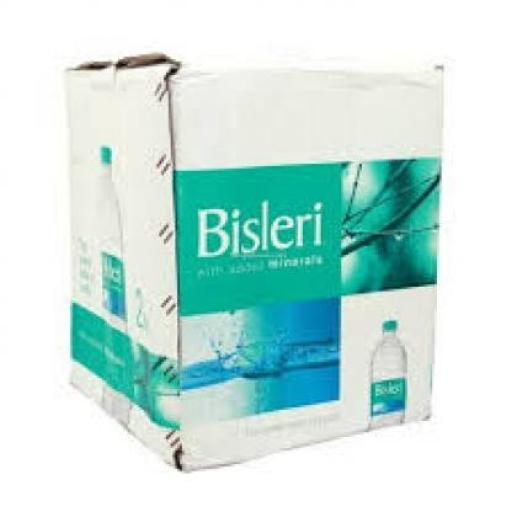cardboard: (61, 52, 442, 469)
